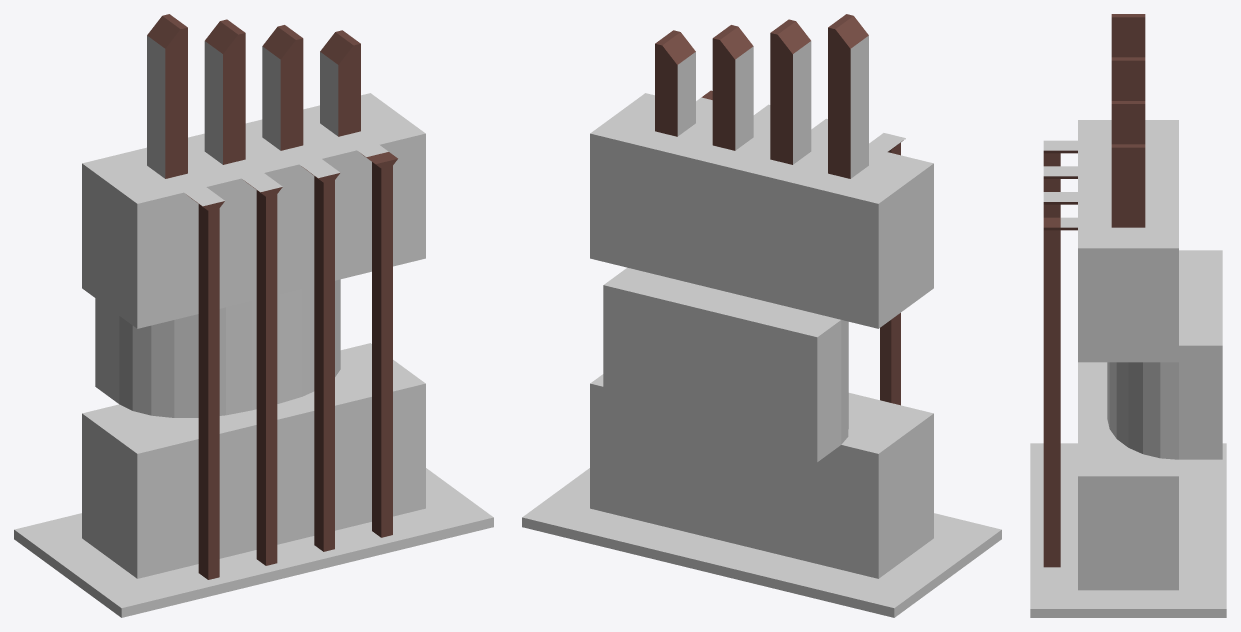
The picture shows the model from 3 angles, left to right: view 1: azimuth 30°, elevation 25°; view 2: azimuth 150°, elevation 25°; view 3: azimuth 270°, elevation 25°; orthographic projection. The views are drawn at different scales.
Parts seen in each view (by area): view 1: 2x1A; view 2: 2x1A; view 3: 2x1A.
Boxes of the visible parts, x1,y1,x2,y2 form: 2x1A: (14, 14, 493, 617); 2x1A: (522, 14, 1001, 617); 2x1A: (1030, 14, 1226, 617).
Size of the model in its own units: 200 by 273 by 100.
